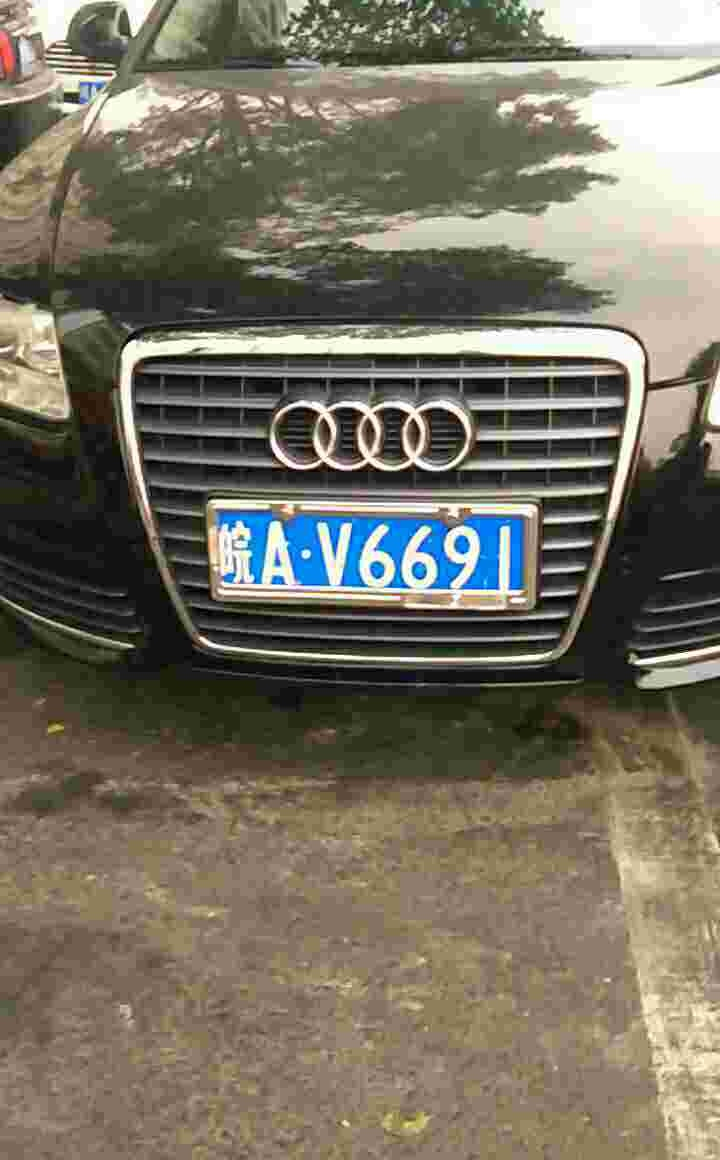license_plate: (220, 520, 530, 587)
